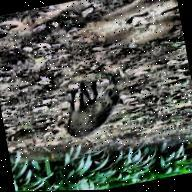boar: (58, 75, 129, 142)
